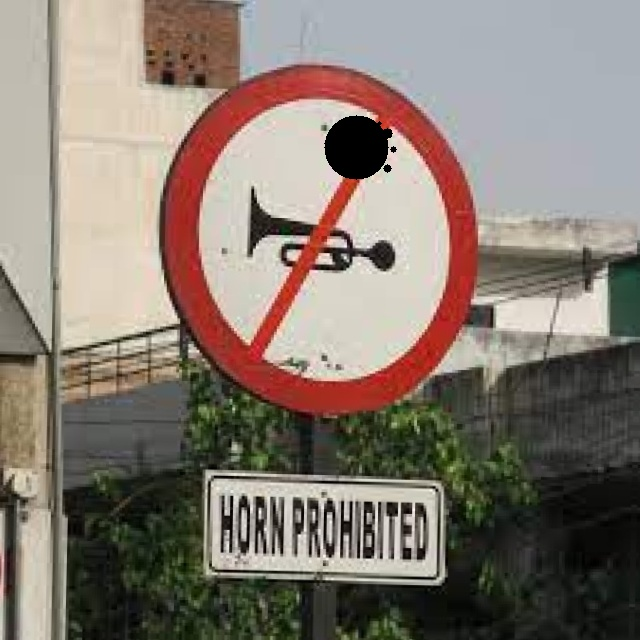Horn_Prohibited: (170, 63, 479, 415)
